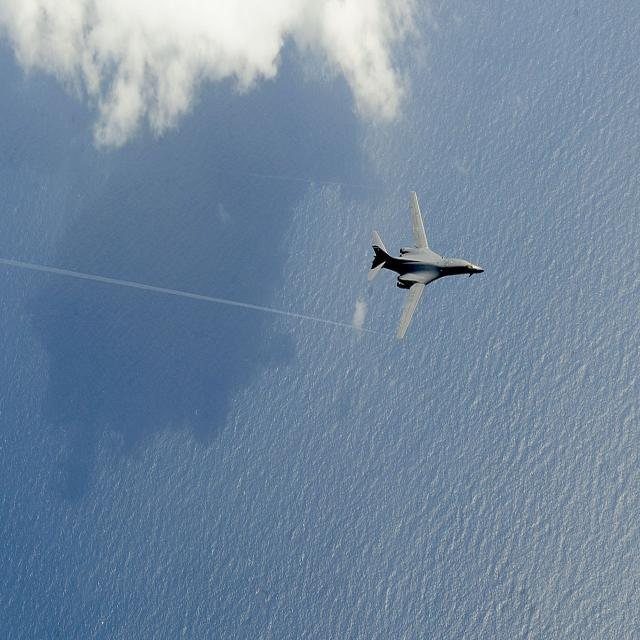MIL_Plane: (366, 222, 484, 309)
